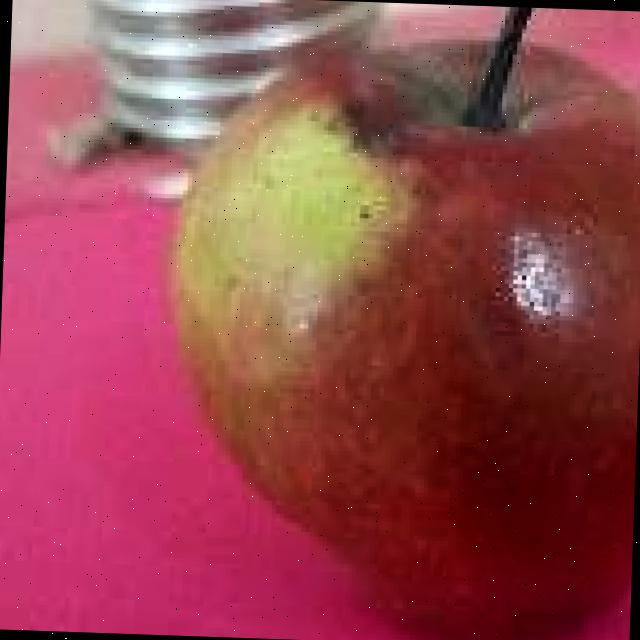Good_Apple 10-21 days: (175, 44, 640, 640)
